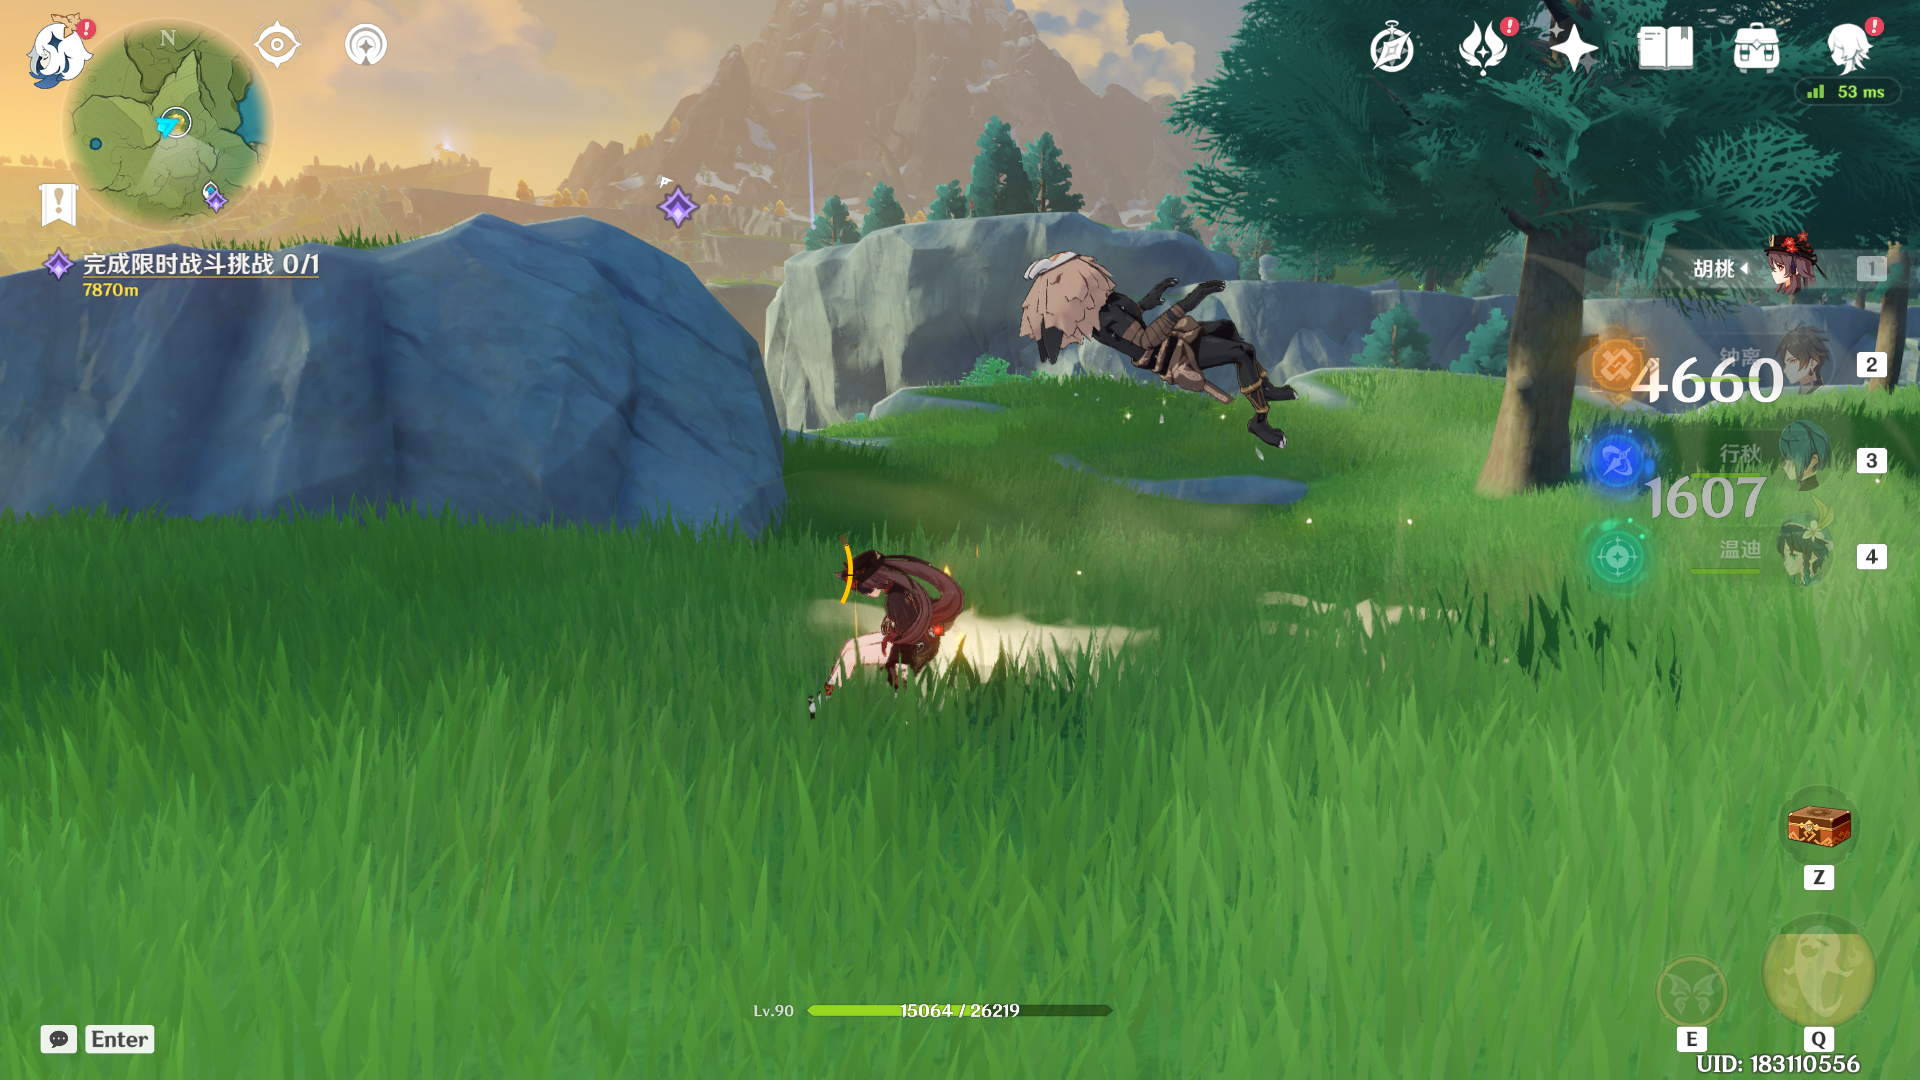character: (765, 514, 1007, 770)
hili: (1005, 206, 1309, 495)
